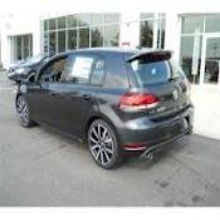no damage: (16, 46, 197, 169)
